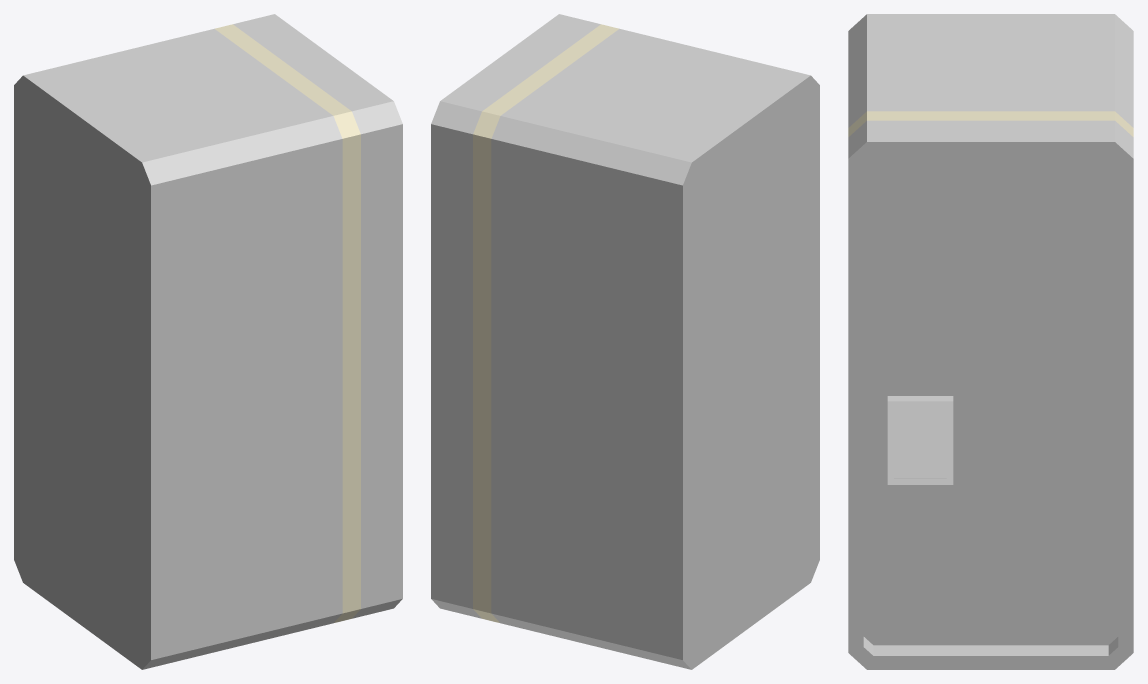
The model's file is tresor-high.fbx.
The picture shows the model from 3 angles, left to right: view 1: azimuth 30°, elevation 25°; view 2: azimuth 150°, elevation 25°; view 3: azimuth 270°, elevation 25°; orthographic projection. The views are drawn at different scales.
Parts seen in each view (by area): view 1: tresor; view 2: tresor; view 3: tresor.
Part boxes in pixels (bbox=[...]): tresor: bbox=[14, 14, 402, 669]; tresor: bbox=[431, 14, 819, 669]; tresor: bbox=[848, 14, 1133, 669].
Size of the model in its own units: 98.52 by 178 by 87.27.
